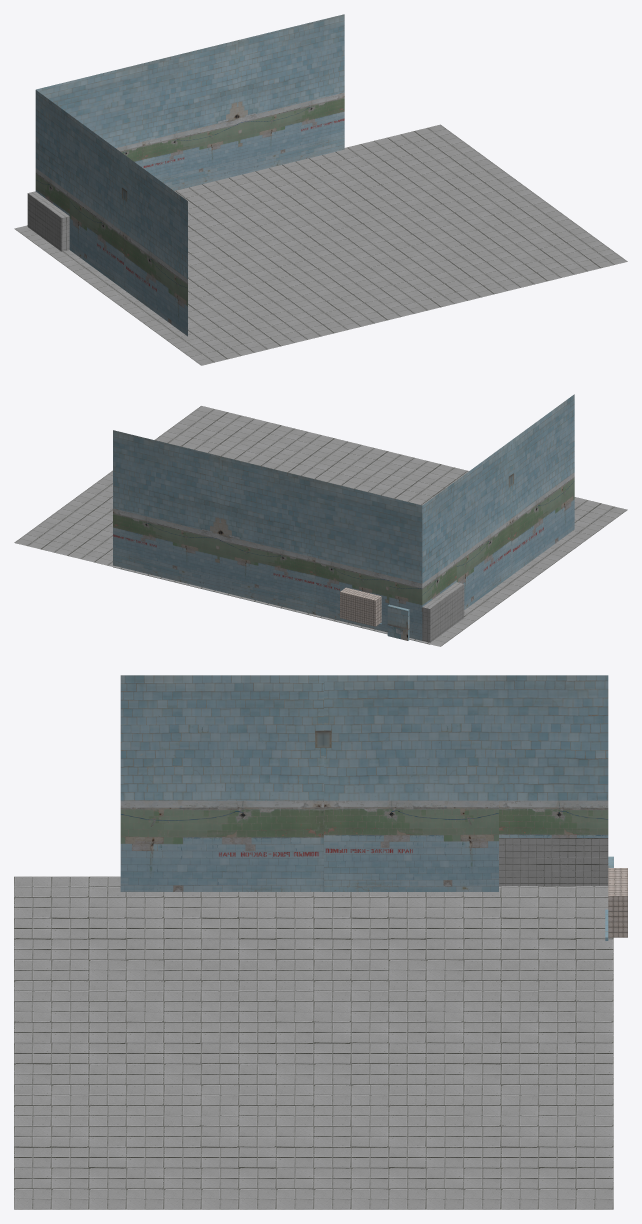
Rendered from factory5.fbx.
3 views of the same model, one above another, from view 1: azimuth 30°, elevation 25°; view 2: azimuth 150°, elevation 25°; view 3: azimuth 270°, elevation 25° (orthographic). The views are drawn at different scales.
Visible parts, largest first — view 1: walls1; view 2: walls1; view 3: walls1.
Boxes of the visible parts, bbox=[...] form: walls1: bbox=[14, 14, 627, 365]; walls1: bbox=[14, 394, 627, 646]; walls1: bbox=[14, 675, 627, 1209].
Bounding box in the file's own units: 222 × 68.26 × 173.
Materials: 1 (1 with a texture image).
